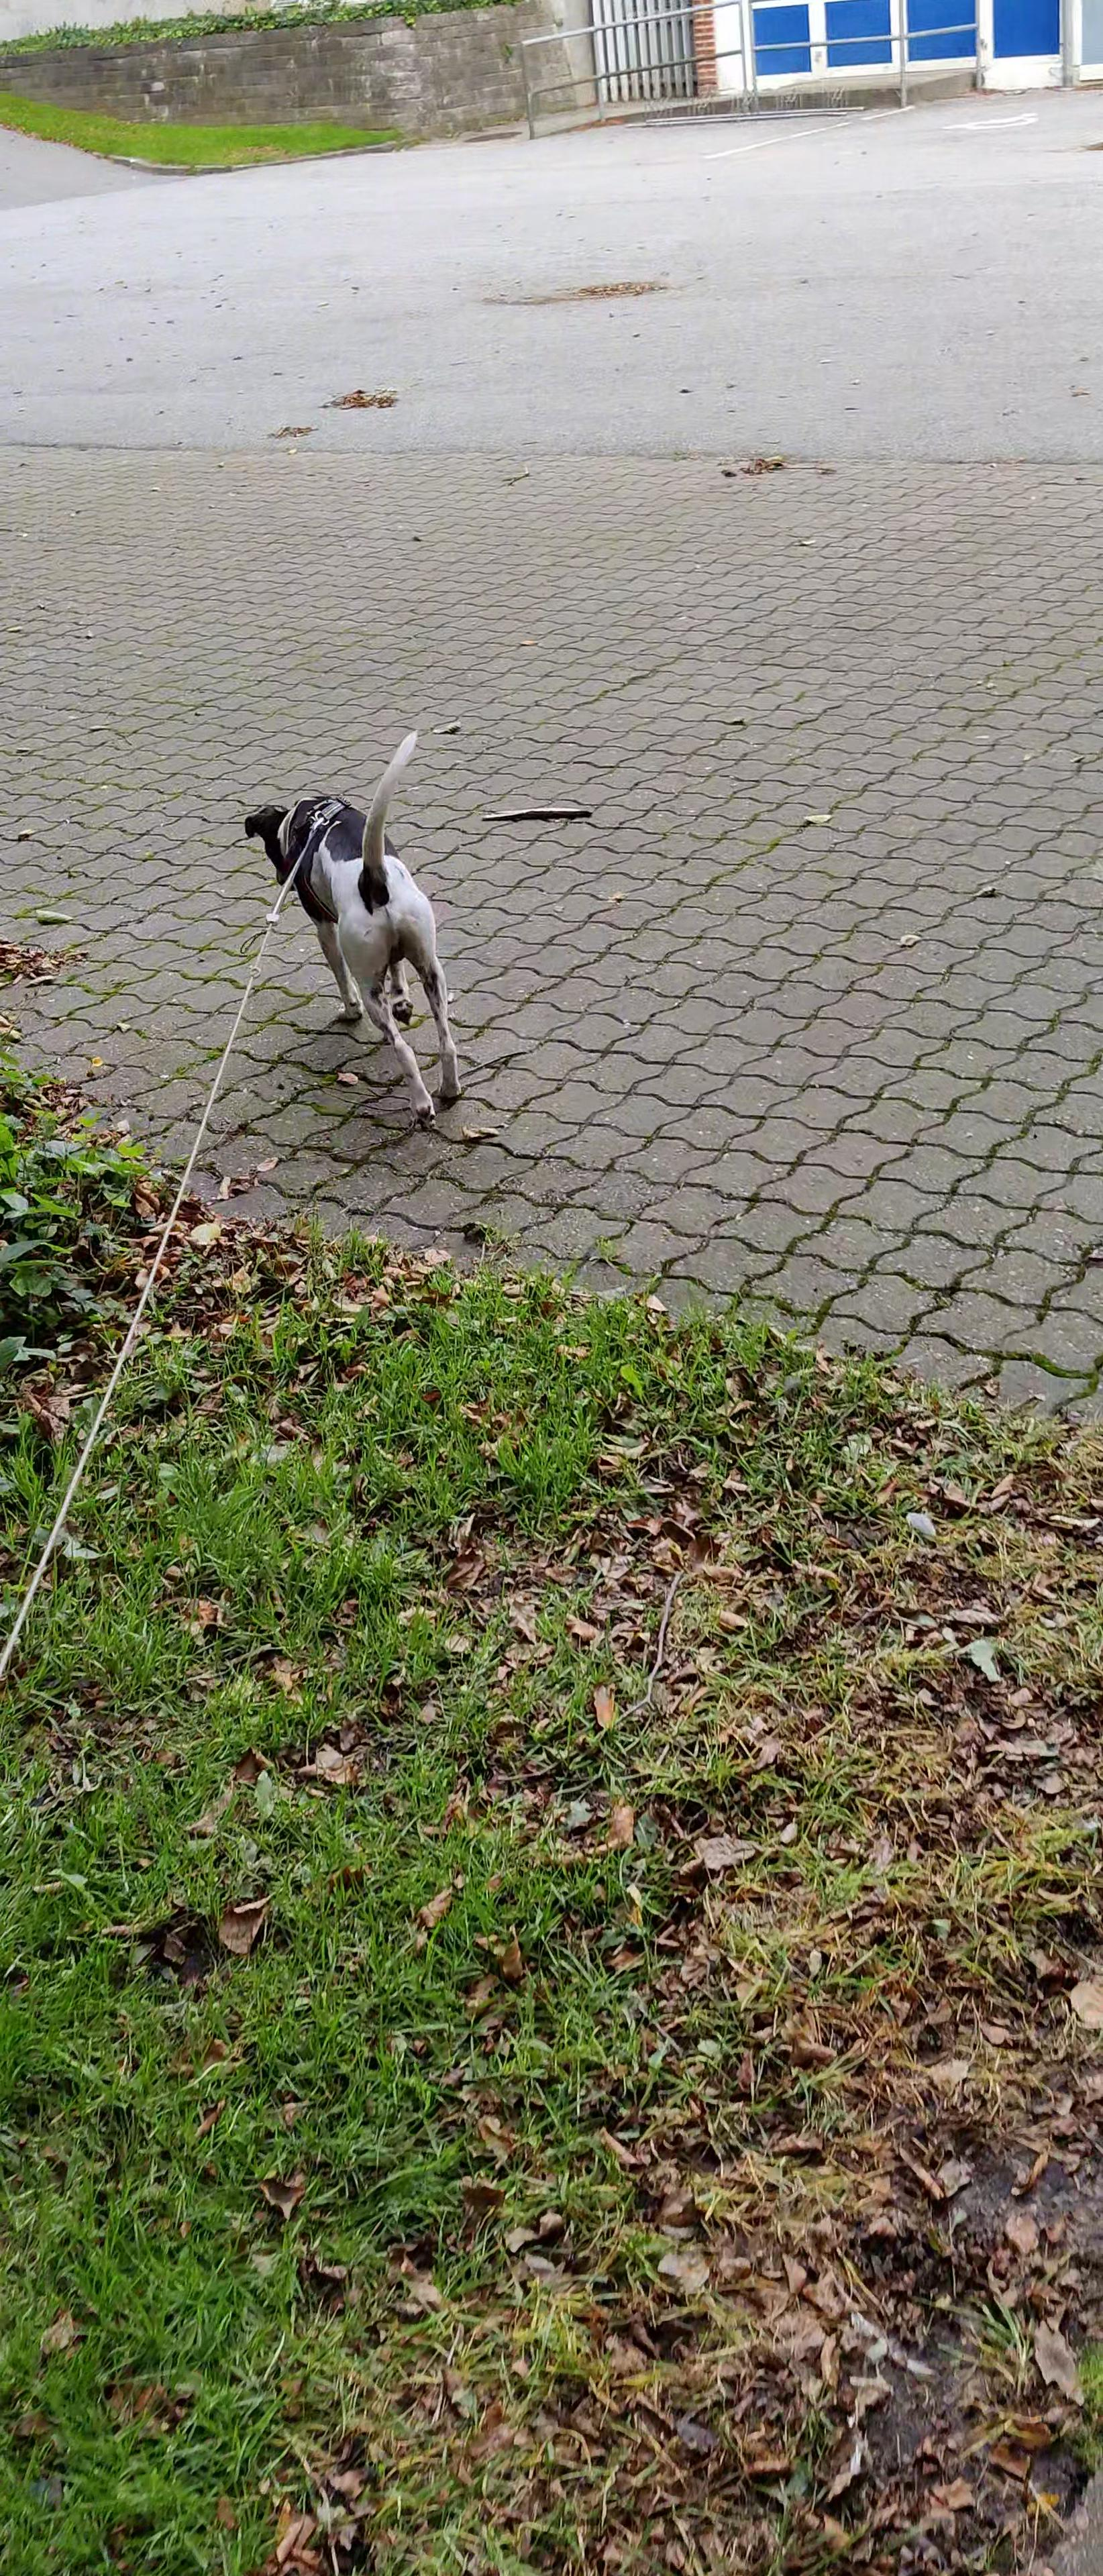Dog: (230, 718, 490, 1130)
